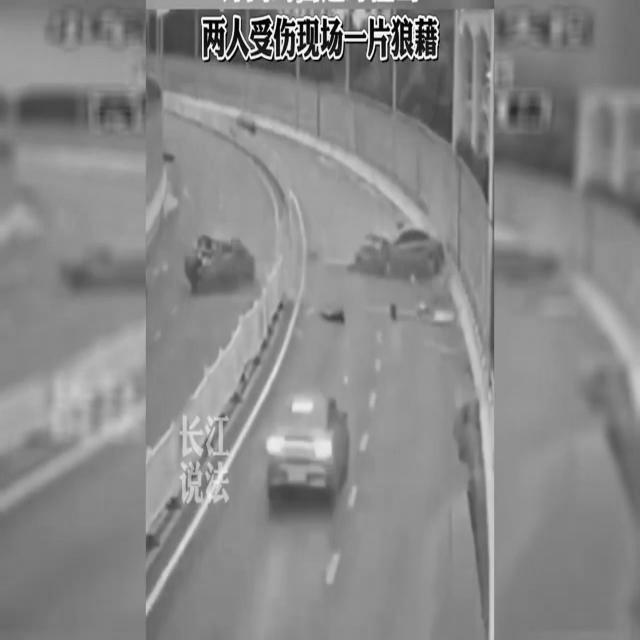accident: (355, 221, 447, 287), (178, 225, 258, 295)
vehicle: (258, 385, 352, 499)
